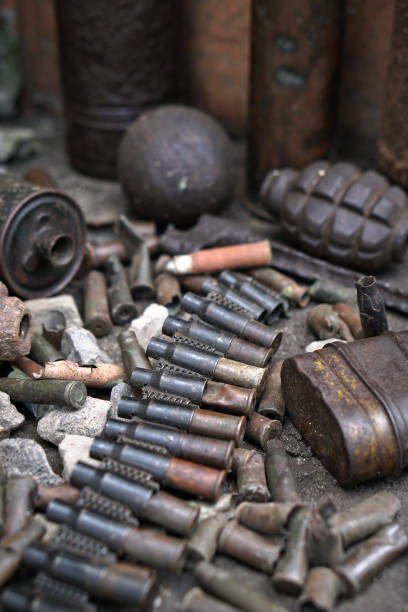e1: (255, 158, 408, 269)
